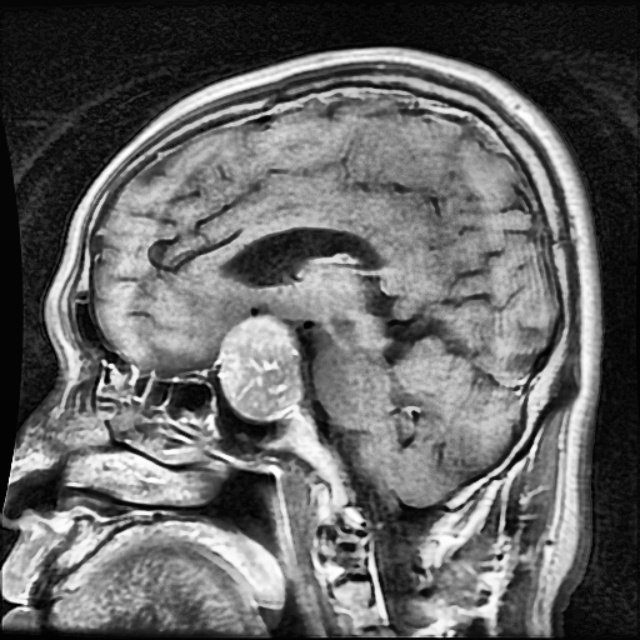Pituitary: (220, 313, 300, 419)
